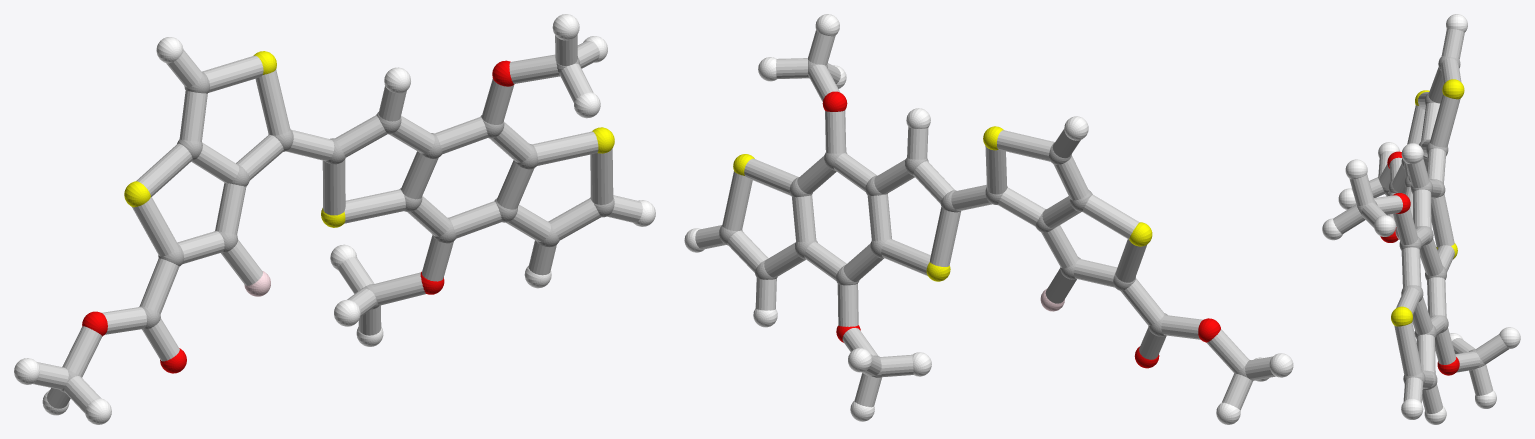
The model's file is color.glb.
The picture shows the model from 3 angles, left to right: view 1: azimuth 30°, elevation 25°; view 2: azimuth 150°, elevation 25°; view 3: azimuth 270°, elevation 25°; orthographic projection. The views are drawn at different scales.
Visible parts, largest first — view 1: grp15205, grp8689, grp1, grp7241, grp13395; view 2: grp15205, grp8689, grp1, grp7241, grp13395; view 3: grp15205, grp8689, grp1, grp7241, grp13395.
Part boxes in pixels (x1,y1,x2,y2): grp15205: (33,35,642,413); grp8689: (14,14,655,424); grp1: (60,57,614,392); grp7241: (124,51,614,227); grp13395: (82,60,514,373); grp15205: (695,30,1275,410); grp8689: (684,14,1293,424); grp1: (719,61,1253,380); grp7241: (733,126,1152,281); grp13395: (822,91,1220,368); grp15205: (1333,28,1508,413); grp8689: (1322,14,1520,424); grp1: (1357,56,1485,389); grp7241: (1391,79,1464,326); grp13395: (1380,151,1459,375).
Bounding box in the file's own units: 16.75 × 9.17 × 5.38.
